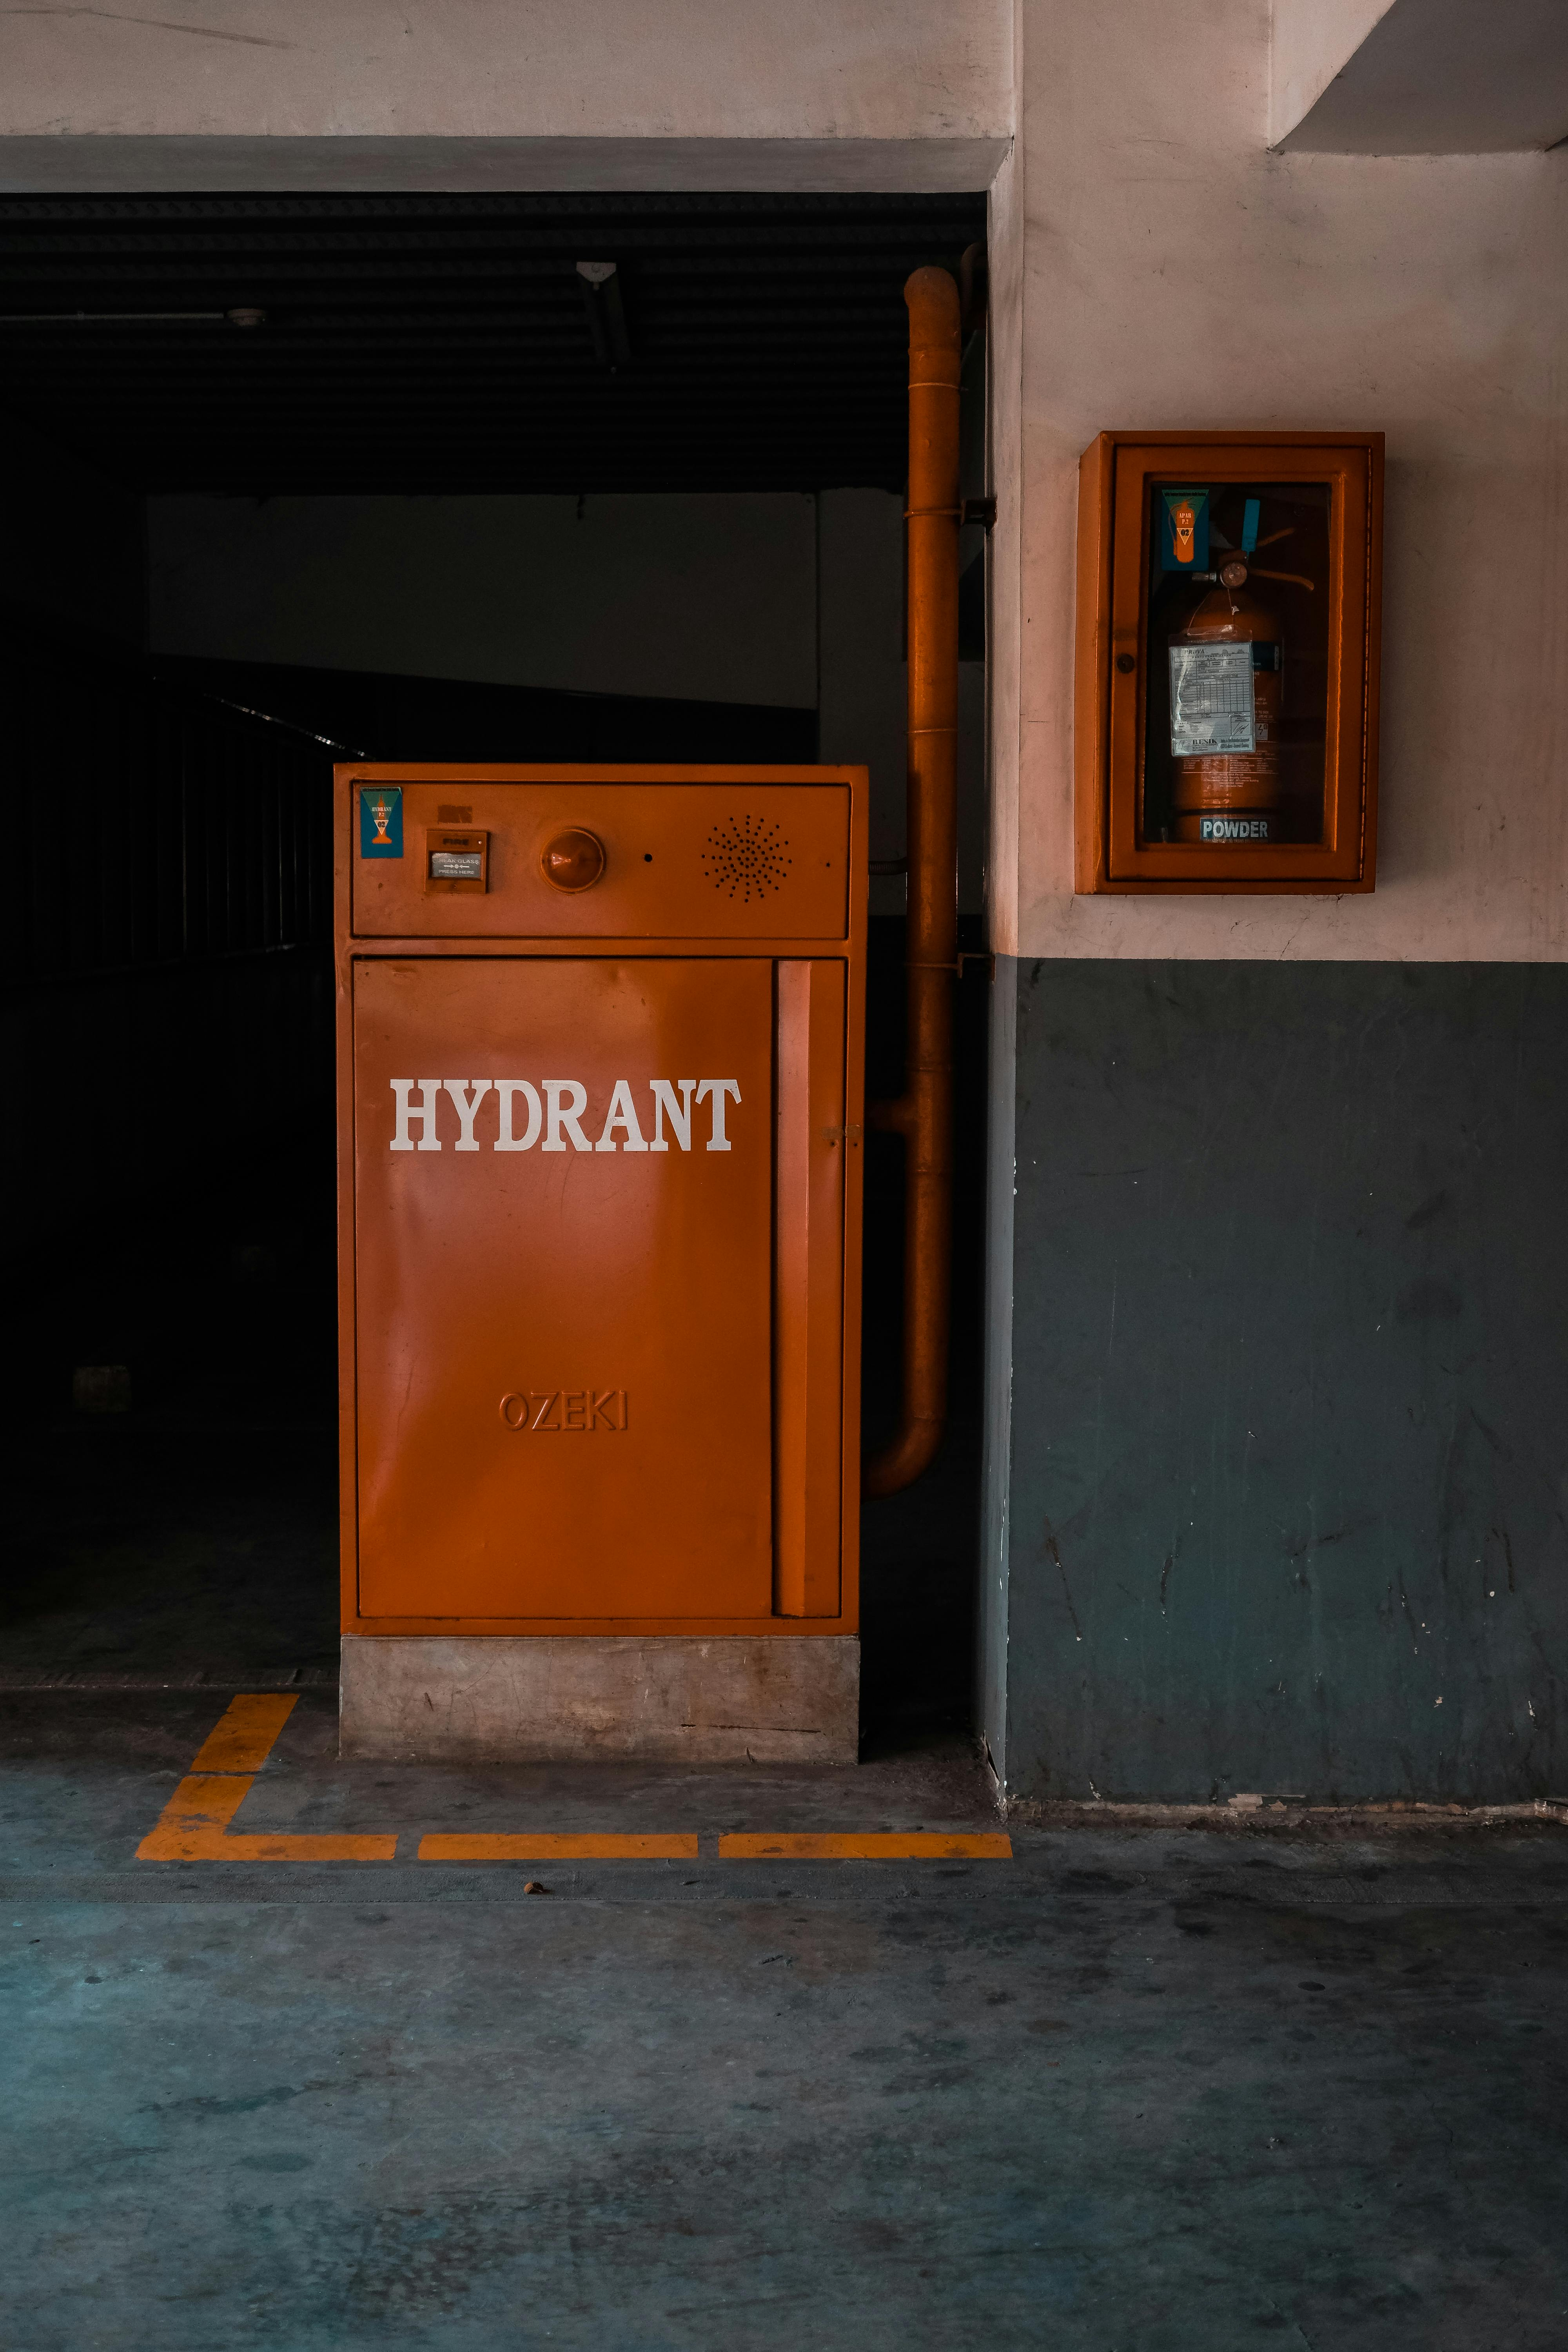extintor: (1137, 478, 1319, 851)
